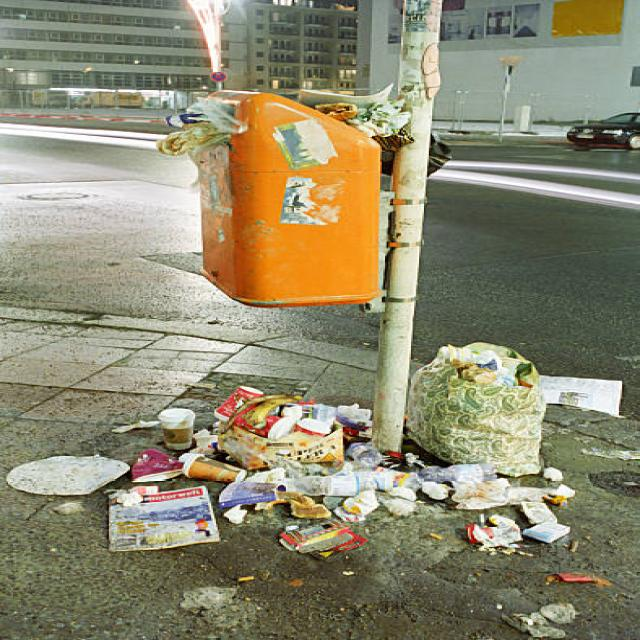metal: (182, 100, 395, 306)
trash: (51, 404, 570, 562)
